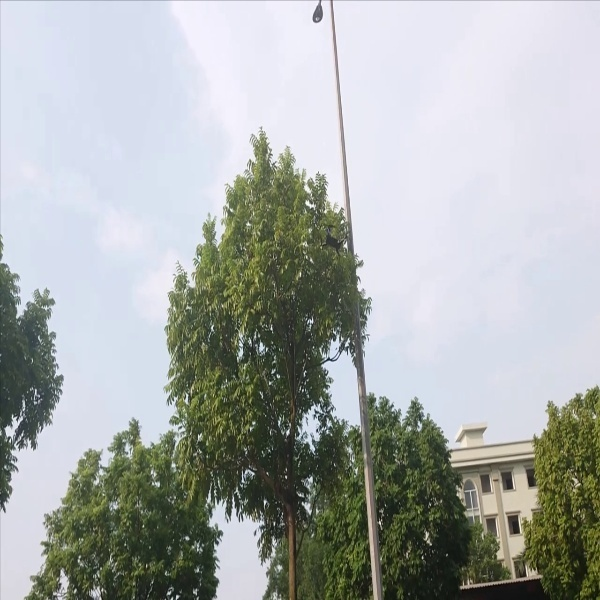drone: (315, 223, 351, 258)
